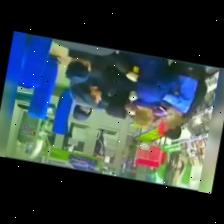person: (132, 53, 178, 125), (71, 54, 131, 107), (164, 67, 207, 139)
